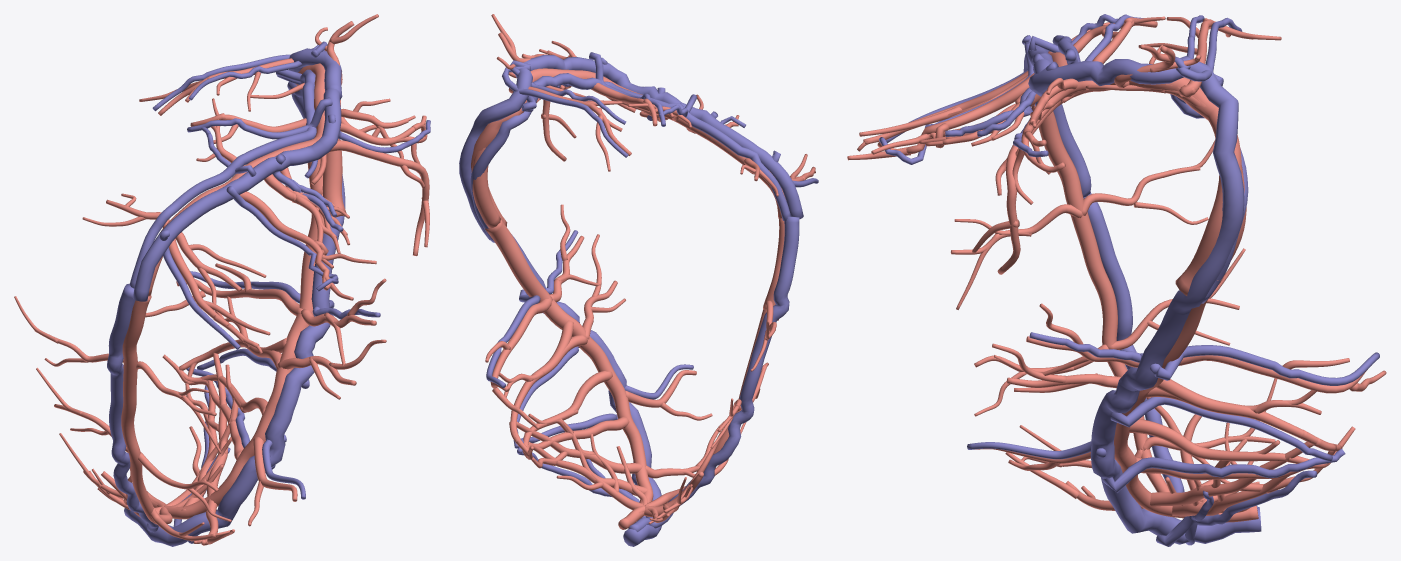
File: vessels_32.glb
The picture shows the model from 3 angles, left to right: view 1: azimuth 30°, elevation 25°; view 2: azimuth 150°, elevation 25°; view 3: azimuth 270°, elevation 25°; orthographic projection. The views are drawn at different scales.
Visible parts, largest first — view 1: Renderer Node; view 2: Renderer Node; view 3: Renderer Node.
Boxes of the visible parts, box(x1,y1,x2,y2) form: Renderer Node: box(14, 14, 430, 546); Renderer Node: box(459, 14, 818, 546); Renderer Node: box(847, 14, 1386, 546).
Size of the model in its own units: 82.55 by 113 by 90.01.
